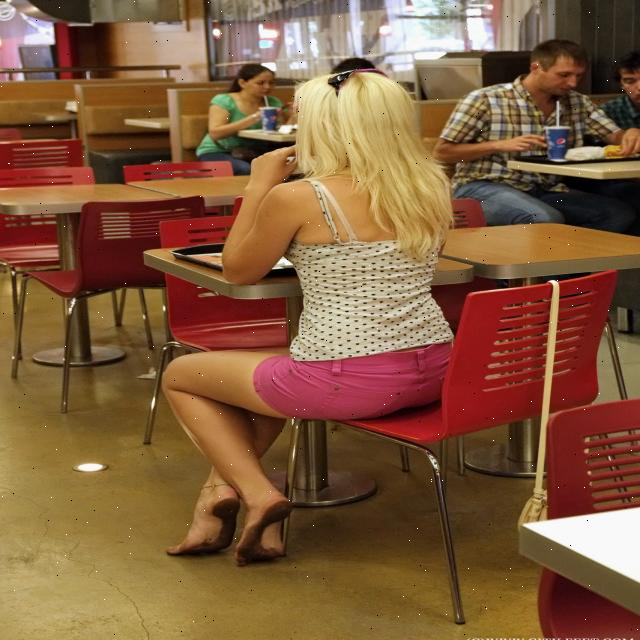No Safety Boots: (166, 490, 241, 556), (235, 492, 292, 566)
